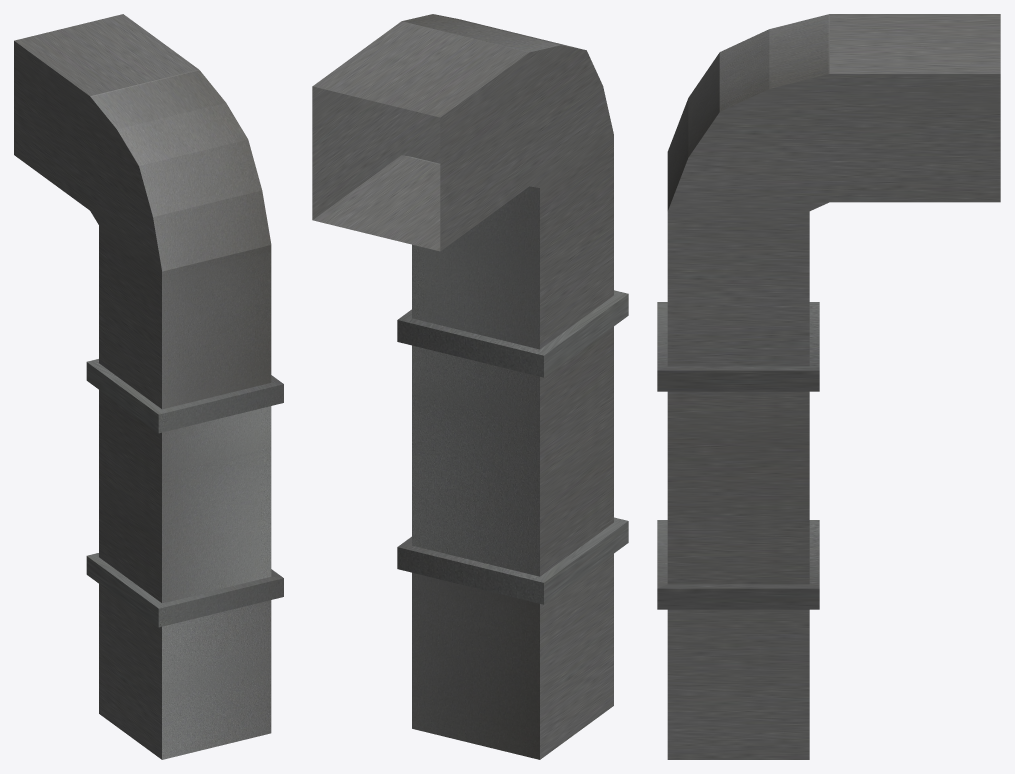
File: Tubulacao3.fbx
3 renders of one model, left to right at view 1: azimuth 30°, elevation 25°; view 2: azimuth 150°, elevation 25°; view 3: azimuth 270°, elevation 25°, orthographic. The views are drawn at different scales.
Visible parts, largest first — view 1: Cube.002; view 2: Cube.002; view 3: Cube.002.
Boxes of the visible parts, bbox=[...] form: Cube.002: bbox=[14, 14, 283, 759]; Cube.002: bbox=[312, 14, 628, 759]; Cube.002: bbox=[657, 14, 1000, 759].
Size of the model in its own units: 102 by 474 by 215.
1 material, 1 textured.
